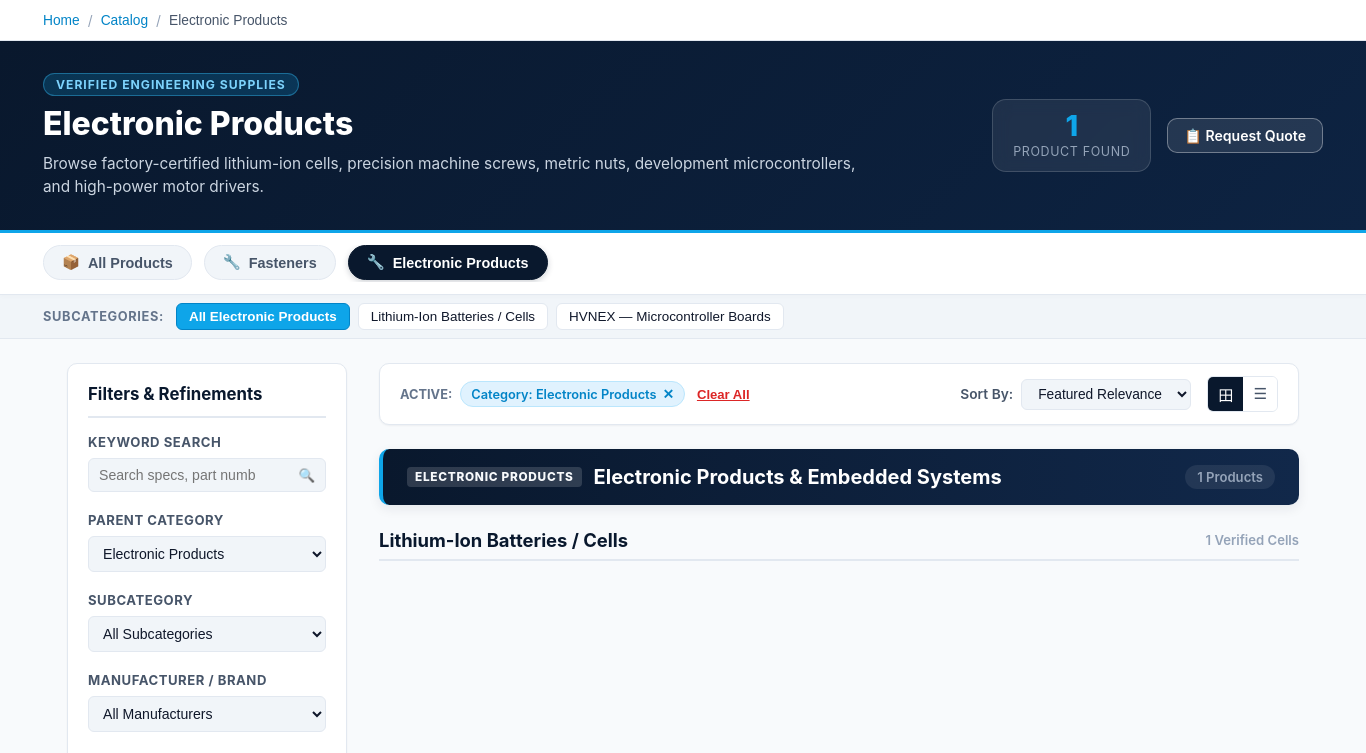
Test: VERTEX ProductListPage Component Suite › 5. Clear All Filters resets search and categories
Expected: the text "1" is shown, top-left (1065, 108), bottom-right (1078, 143)
Click the button "Clear All" at (723, 394), box top-left (693, 387), bottom-right (754, 402)
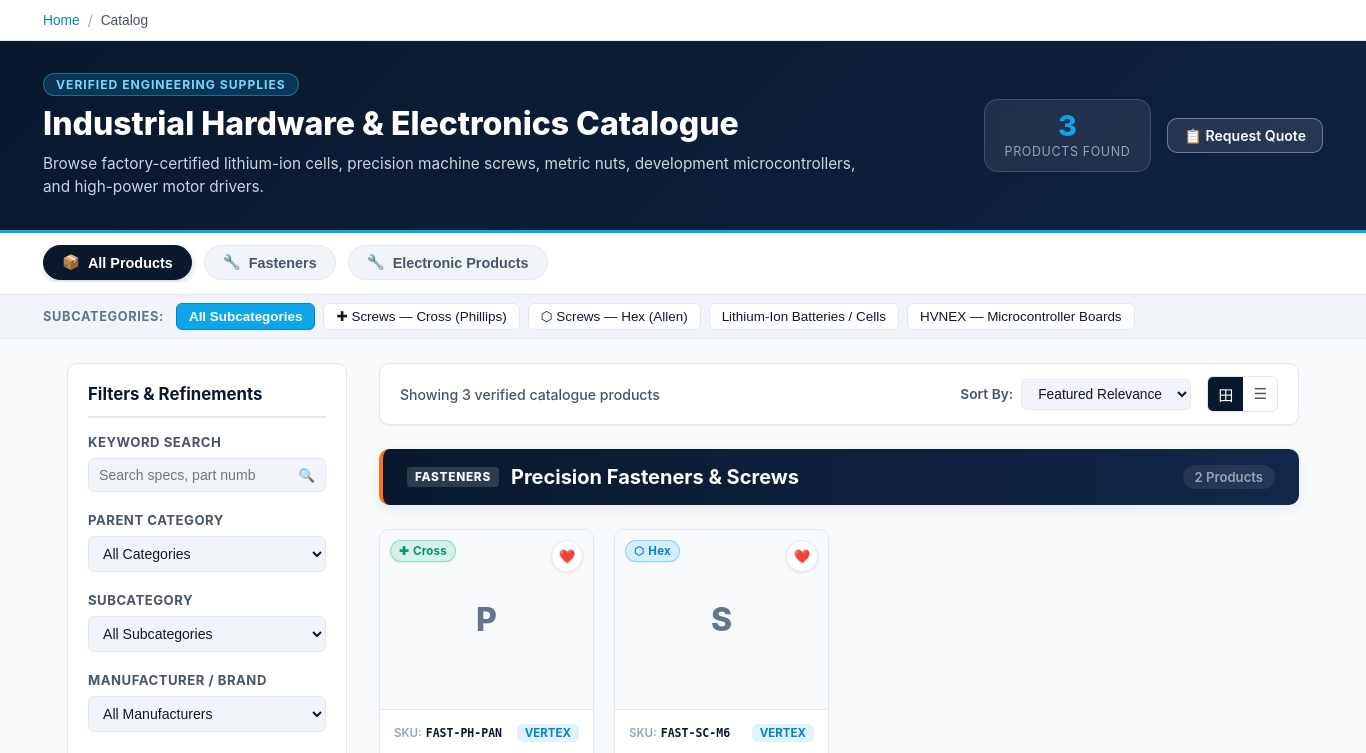
Now the text "3" is shown, box top-left (1058, 108), bottom-right (1077, 143)
